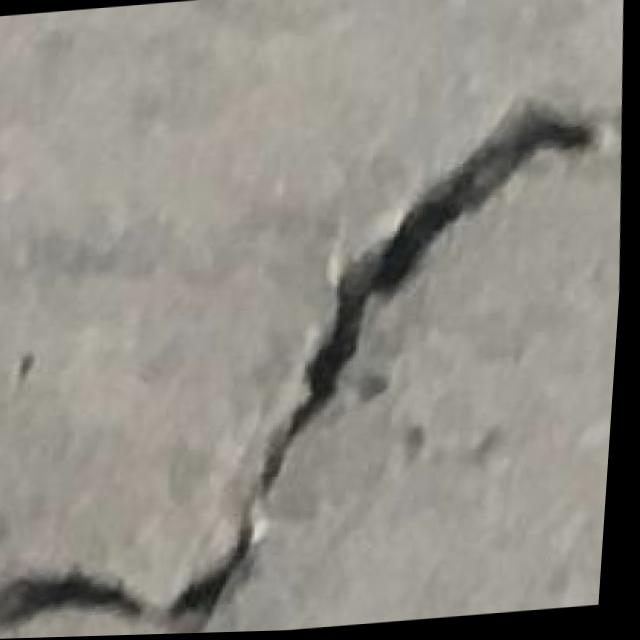Crack: (0, 93, 634, 640)
